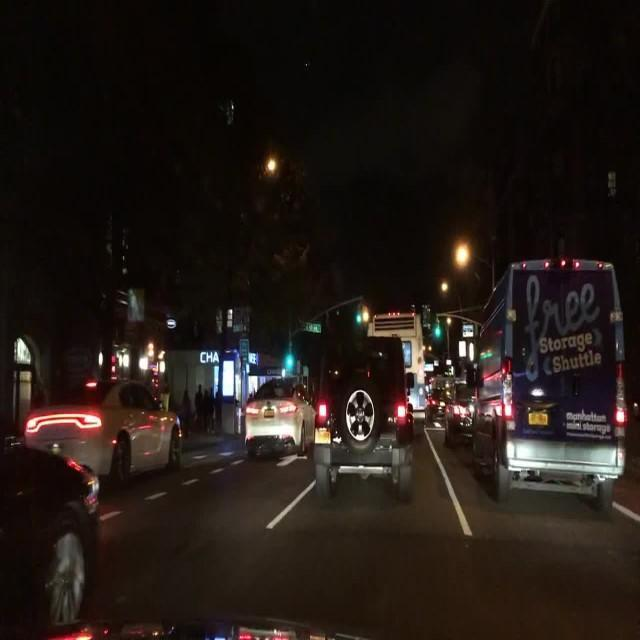normal: (475, 254, 630, 508), (0, 434, 102, 633), (22, 378, 184, 486), (243, 377, 317, 461), (441, 382, 474, 447)
